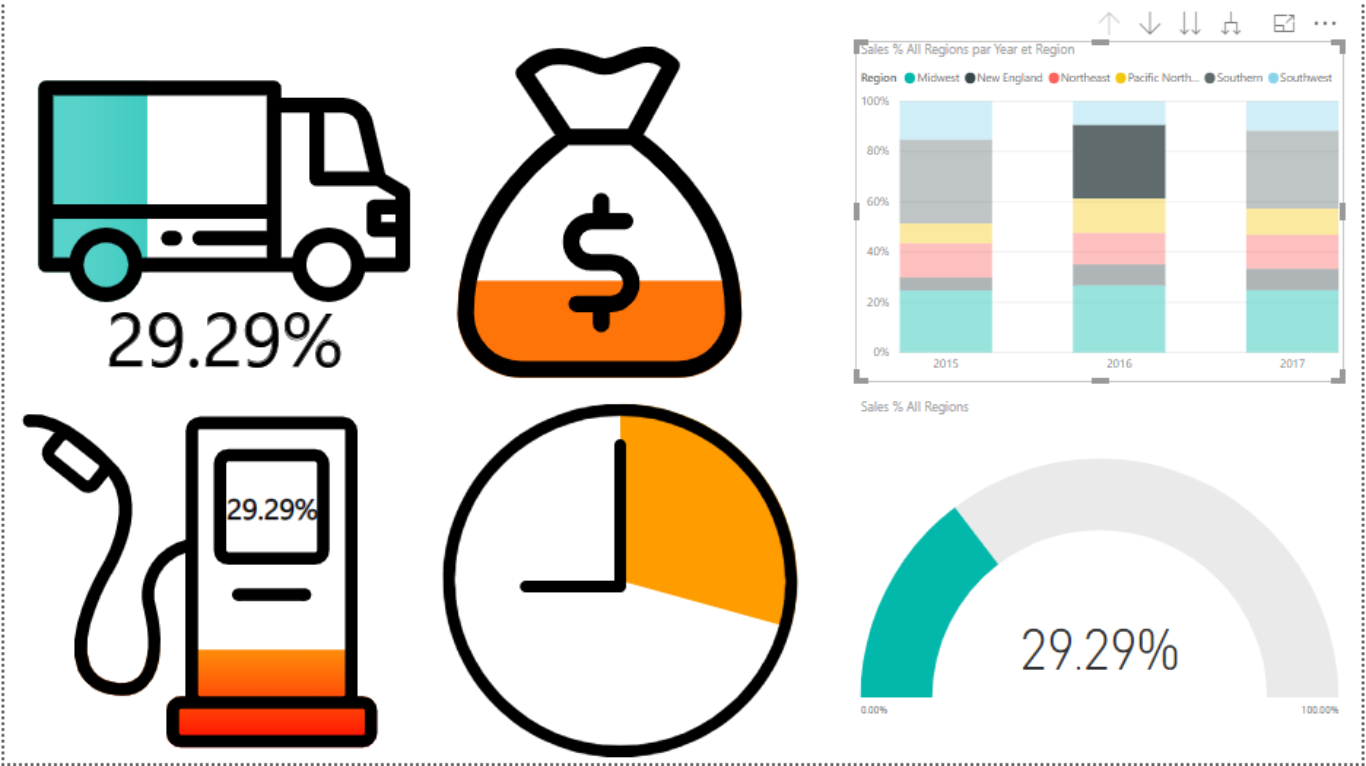

Layout of this report page (visuals, bound fields, positions):
{"tool":"powerbi","page":{"name":"IconFillerSample","canvas":[1280,720],"ordinal":0},"visuals":[{"type":"iconFiller316E184D50974591813CF51F3E87A0DDS","fields":{"measure":["Sales.Sales % All Regions"]},"box":[0,0,414.9,360.7],"z":0},{"type":"iconFiller316E184D50974591813CF51F3E87A0DDS","fields":{"measure":["Sales.Sales % All Regions"]},"box":[0,375.8,368.9,344.2],"z":1000},{"type":"iconFiller316E184D50974591813CF51F3E87A0DDS","fields":{"measure":["Sales.Sales % All Regions"]},"box":[368.8,38,385.1,322.7],"z":2000},{"type":"iconFiller316E184D50974591813CF51F3E87A0DDS","fields":{"measure":["Sales.Sales % All Regions"]},"box":[369,376,424,344],"z":3000},{"type":"columnChart","fields":{"Y":["Sales.Sales % All Regions"],"Series":["Region.Region"],"Category":["Date.Date.Variation.Date Hierarchy.Year","Date.Date.Variation.Date Hierarchy.Quarter","Date.Date.Variation.Date Hierarchy.Month","Date.Date.Variation.Date Hierarchy.Day"]},"box":[802.7,38,461,322.7],"z":4000},{"type":"gauge","fields":{"Y":["Sales.Sales % All Regions"]},"box":[803,376,461,344],"z":5000}]}

Visuals, with their boxes on the page's 1280x720 design canvas (x1, y1, x2, y2). These are canvas units, not pixel positions in the 1366x766 screenshot, which may show the page scaled, cropped or inside an application window:
iconFiller316E184D50974591813CF51F3E87A0DDS - Sales.Sales % All Regions: <bbox>0, 0, 415, 361</bbox>
iconFiller316E184D50974591813CF51F3E87A0DDS - Sales.Sales % All Regions: <bbox>0, 376, 369, 720</bbox>
iconFiller316E184D50974591813CF51F3E87A0DDS - Sales.Sales % All Regions: <bbox>369, 38, 754, 361</bbox>
iconFiller316E184D50974591813CF51F3E87A0DDS - Sales.Sales % All Regions: <bbox>369, 376, 793, 720</bbox>
columnChart - Sales.Sales % All Regions x Region.Region: <bbox>803, 38, 1264, 361</bbox>
gauge - Sales.Sales % All Regions: <bbox>803, 376, 1264, 720</bbox>
